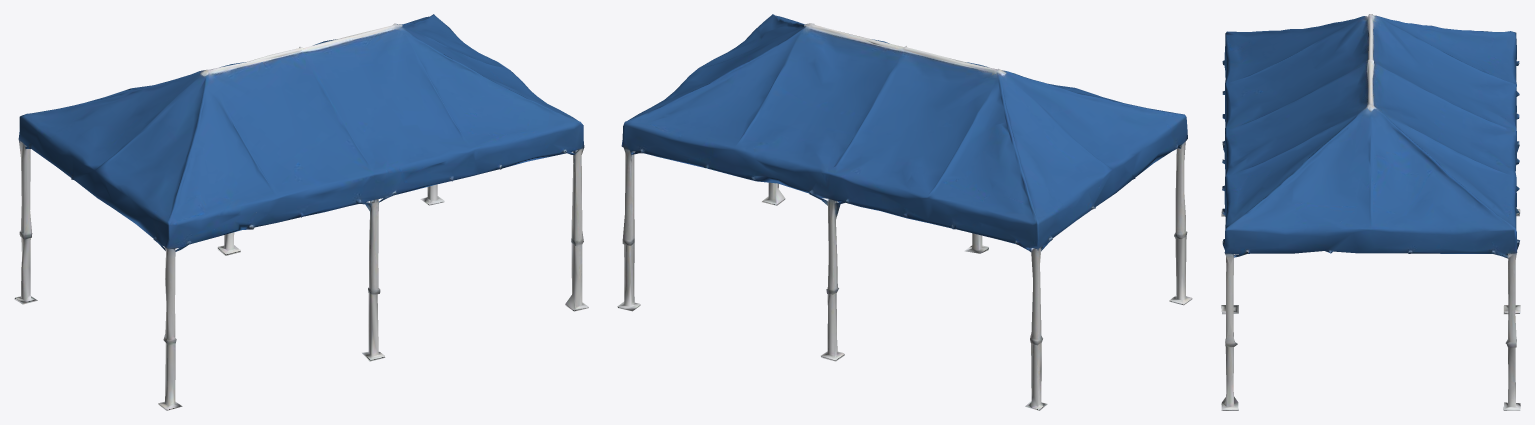
File: tent_shade.glb
The picture shows the model from 3 angles, left to right: view 1: azimuth 30°, elevation 25°; view 2: azimuth 150°, elevation 25°; view 3: azimuth 270°, elevation 25°; orthographic projection. The views are drawn at different scales.
Parts seen in each view (by area): view 1: tripo_node_0cc9377b-e26b-4fd6-916e-9ff23843eed9; view 2: tripo_node_0cc9377b-e26b-4fd6-916e-9ff23843eed9; view 3: tripo_node_0cc9377b-e26b-4fd6-916e-9ff23843eed9.
Part boxes in pixels (<box>): tripo_node_0cc9377b-e26b-4fd6-916e-9ff23843eed9: <box>14,14,588,410</box>; tripo_node_0cc9377b-e26b-4fd6-916e-9ff23843eed9: <box>617,14,1192,410</box>; tripo_node_0cc9377b-e26b-4fd6-916e-9ff23843eed9: <box>1221,14,1520,410</box>.
Bounding box in the file's own units: 1 × 0.5827 × 0.6292.
Materials: 1 (1 with a texture image).
